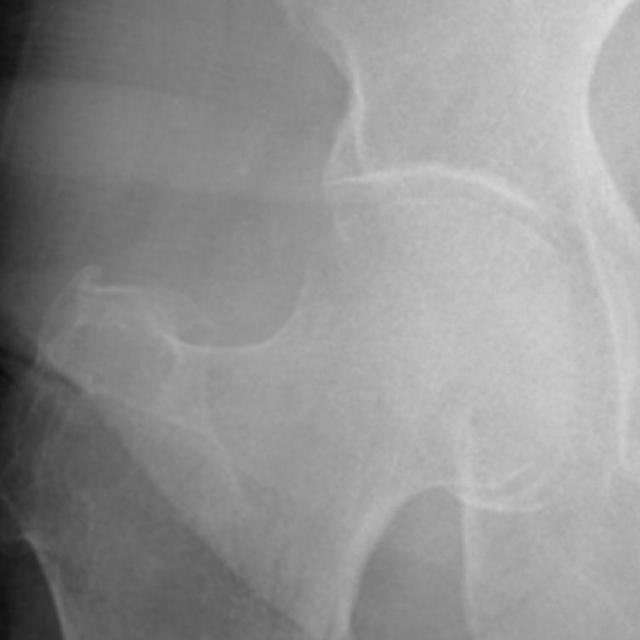Fitted_femural_head: (307, 194, 432, 307)
